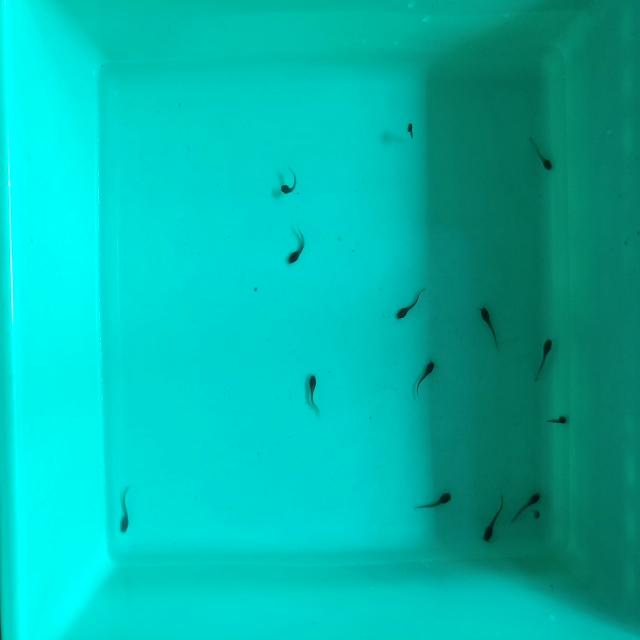lele: (410, 354, 442, 401), (480, 494, 508, 547), (393, 283, 429, 323), (477, 300, 504, 353), (526, 129, 557, 173), (510, 488, 543, 525), (532, 333, 555, 384), (285, 233, 312, 268), (414, 490, 452, 510), (120, 483, 131, 535), (308, 374, 320, 413), (281, 167, 296, 194), (548, 414, 568, 426), (407, 120, 415, 143), (532, 507, 542, 520)
